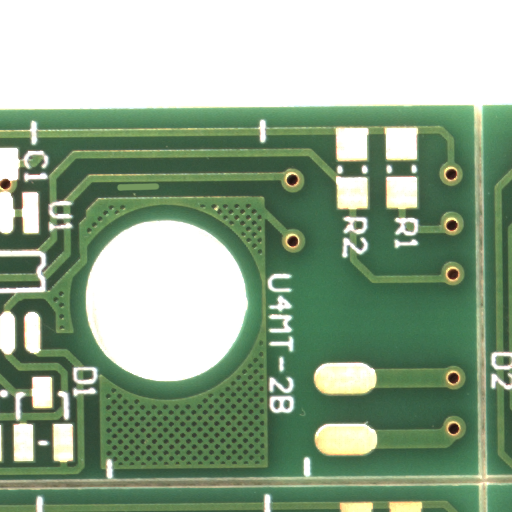Spurious_copper: (137, 187, 181, 198)
